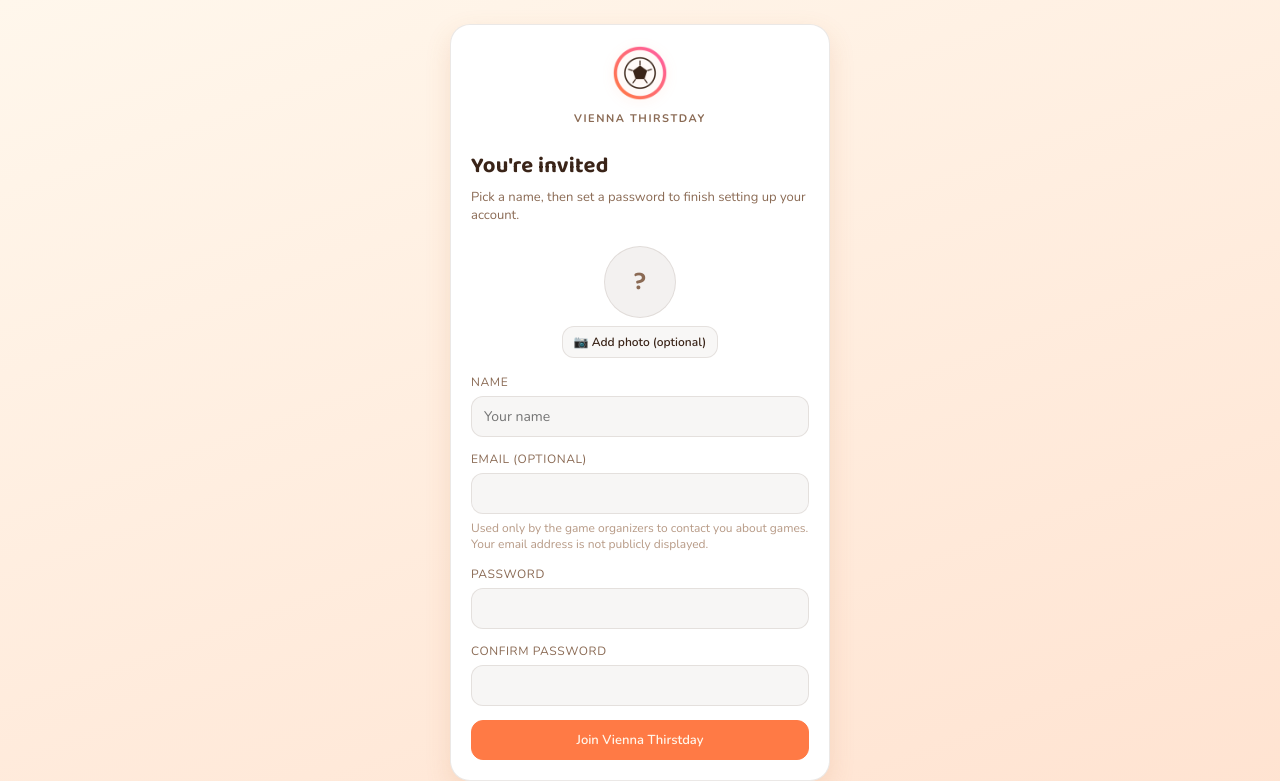
Test: AcceptInvite › shows the server's error, e.g. a name that is already taken
Expected: the heading "You're invited" is shown, x1=471 y1=148 x2=609 y2=184
Type "Robert" into the field labelled "Name". click: (640, 416)
box: x1=471 y1=396 x2=809 y2=437
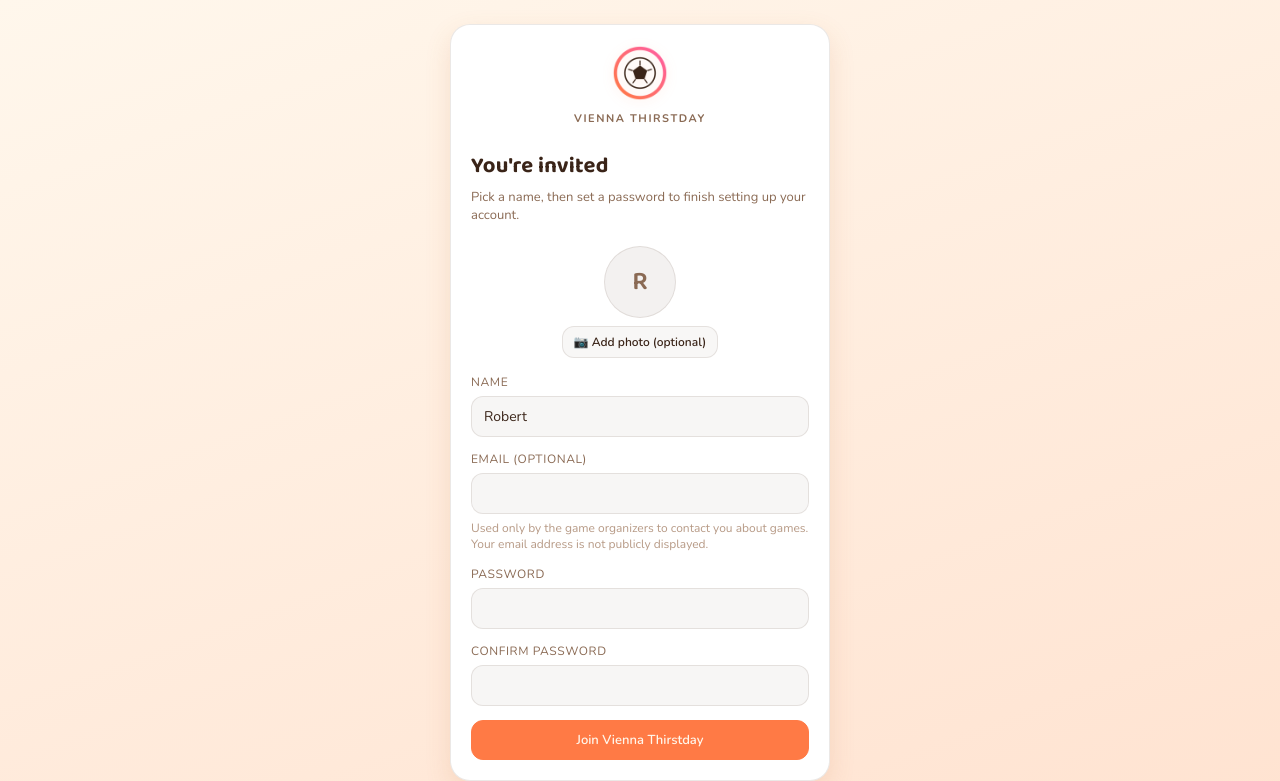
Type "password123" into the password field labelled "Password". click: (640, 608)
box: x1=471 y1=588 x2=809 y2=629
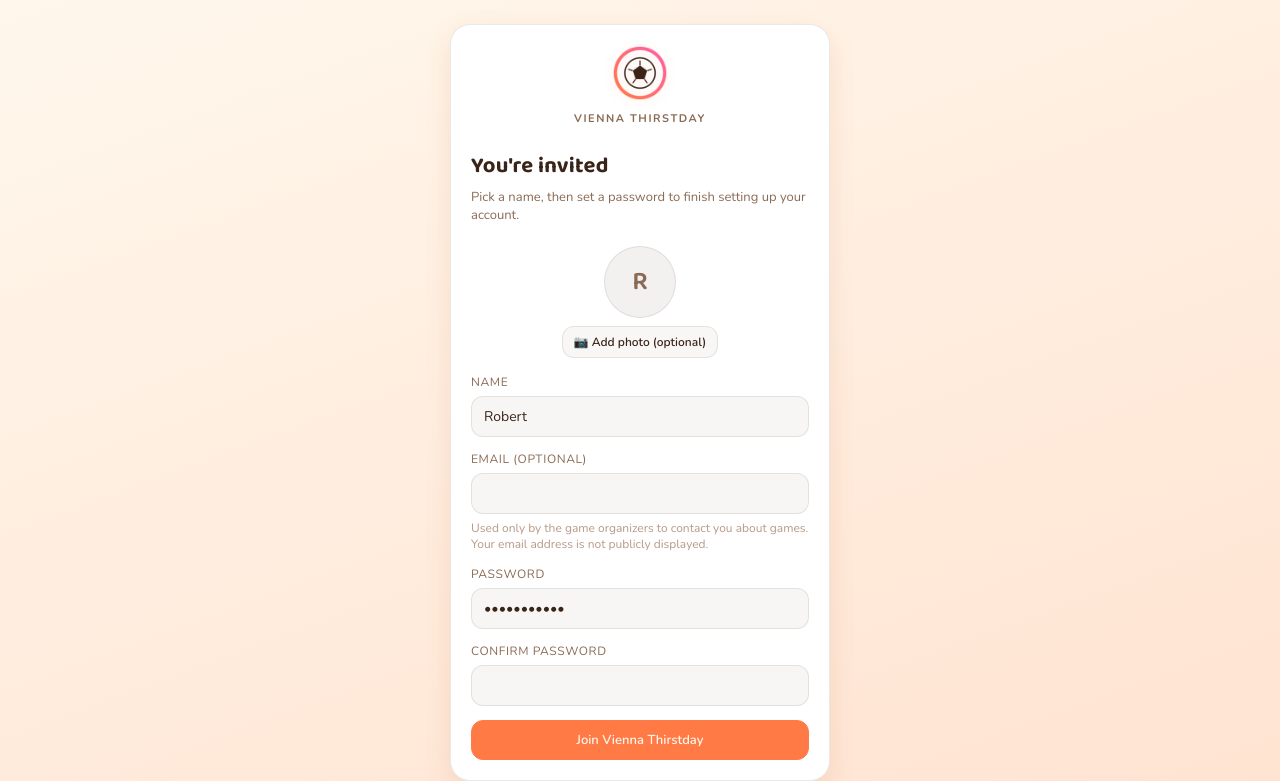
Type "password123" into the password field labelled "Confirm password". click: (640, 686)
box: x1=471 y1=665 x2=809 y2=706
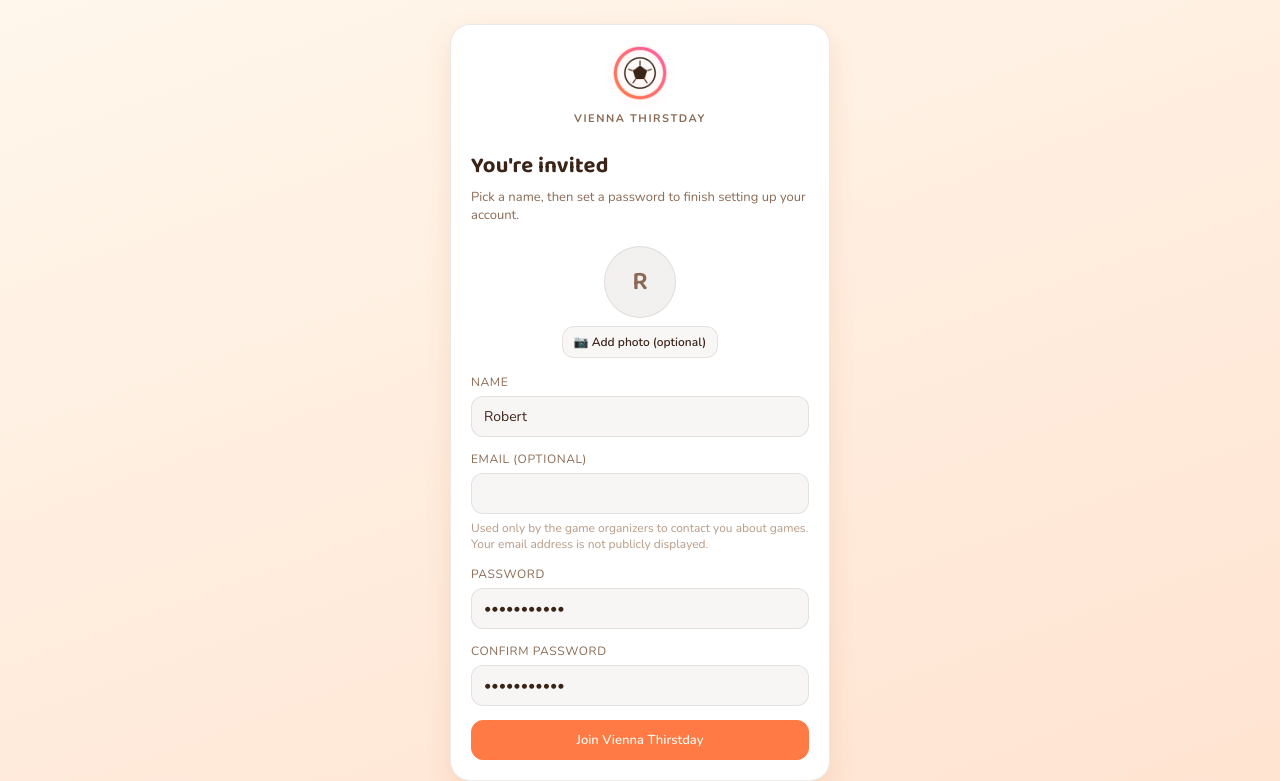
Click the button "Join Vienna Thirstday". click: (640, 740)
box: x1=471 y1=720 x2=809 y2=760
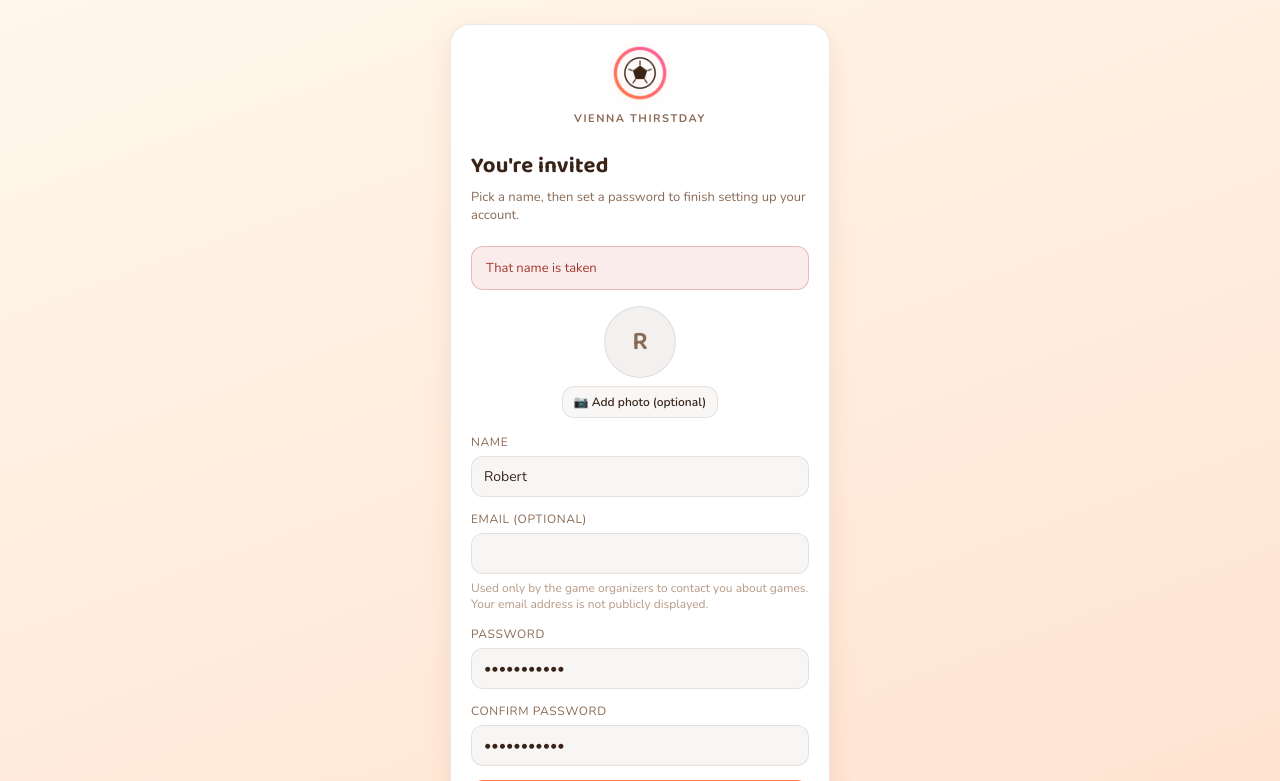
Result: the text "That name is taken" is shown at x1=471 y1=246 x2=809 y2=290
